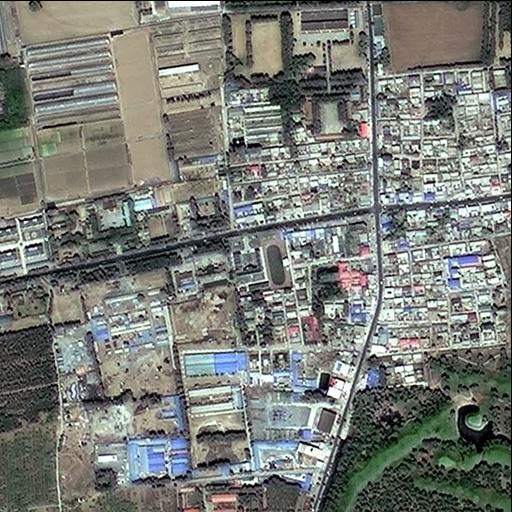school: (222, 228, 291, 294)
